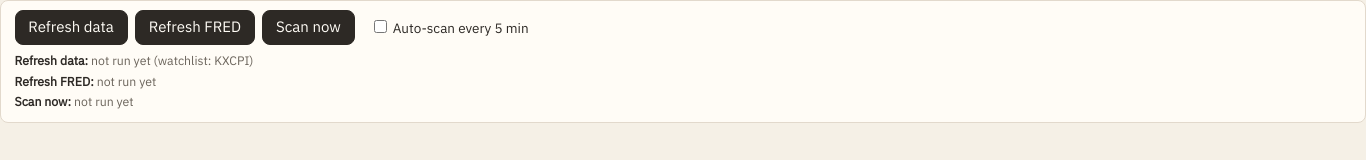
Test: <ControlBar> › starts a scan with the ops CSRF header and shows it running
The width and height of the screenshot is (1366, 160).
Click the button "Scan now" at x=308, y=28, box x1=262 y1=10 x2=354 y2=45
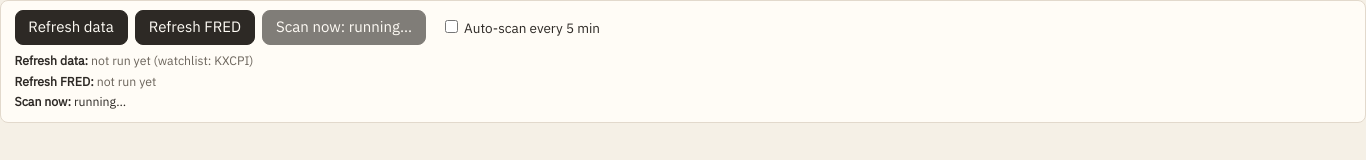
Now the button "Scan now: running…" is disabled, box x1=262 y1=10 x2=426 y2=45
